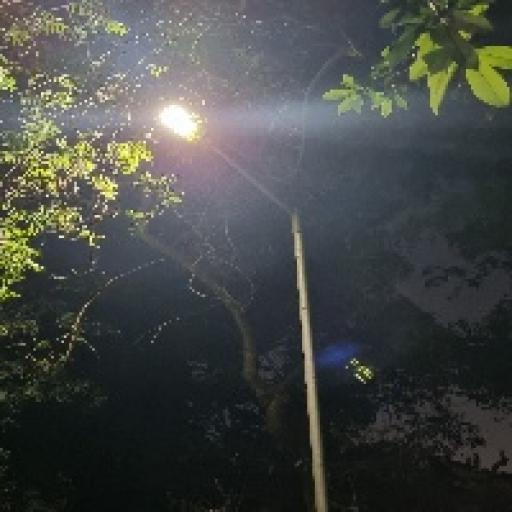Working: (144, 94, 226, 154)
